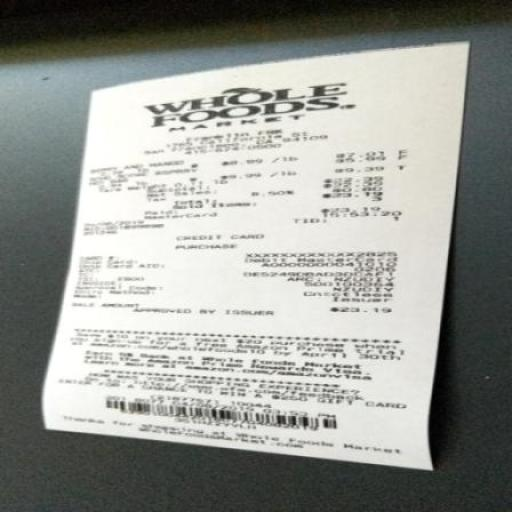paper: (53, 19, 497, 512)
